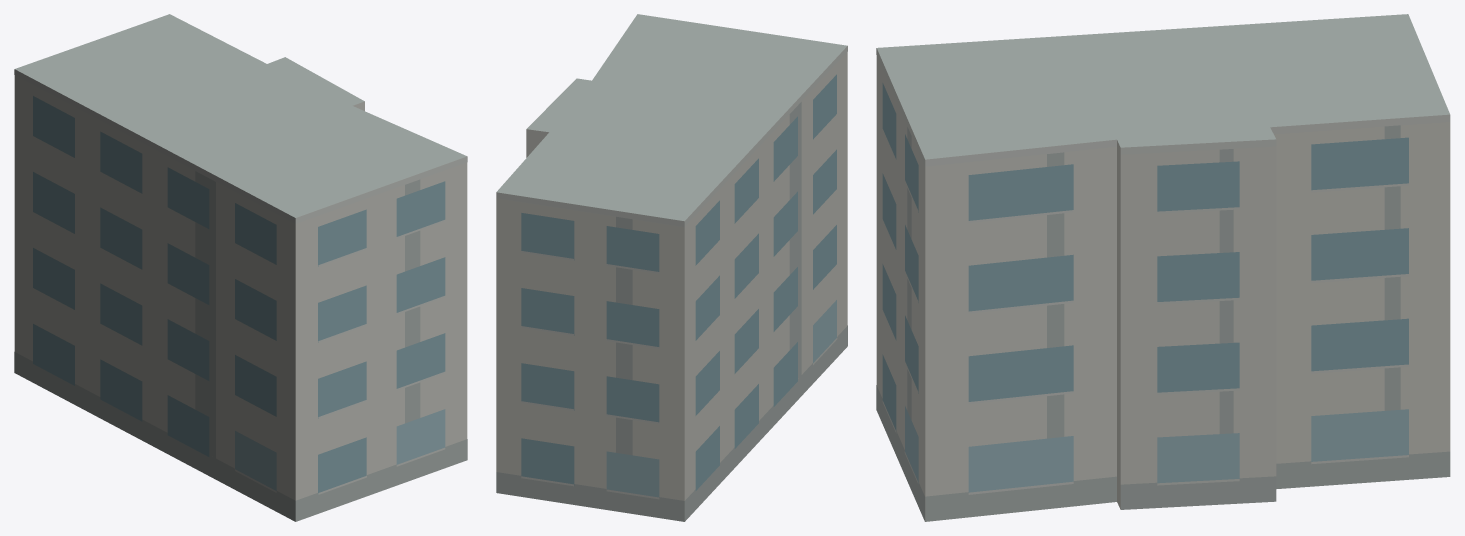
The model's file is residential-83879796-c3b2-4899-993c-eb42f8526597.glb.
3 views of the same model, side by side, from view 1: azimuth 30°, elevation 25°; view 2: azimuth 150°, elevation 25°; view 3: azimuth 270°, elevation 25° (orthographic). The views are drawn at different scales.
Visible parts, largest first — view 1: residential-83879796-c3b2-4899-993c-eb42f8526597.tmp; view 2: residential-83879796-c3b2-4899-993c-eb42f8526597.tmp; view 3: residential-83879796-c3b2-4899-993c-eb42f8526597.tmp.
Boxes of the visible parts, bbox=[...] form: residential-83879796-c3b2-4899-993c-eb42f8526597.tmp: bbox=[14, 14, 467, 521]; residential-83879796-c3b2-4899-993c-eb42f8526597.tmp: bbox=[496, 14, 847, 521]; residential-83879796-c3b2-4899-993c-eb42f8526597.tmp: bbox=[876, 14, 1450, 521].
Size of the model in its own units: 10.53 by 12.2 by 17.52.
